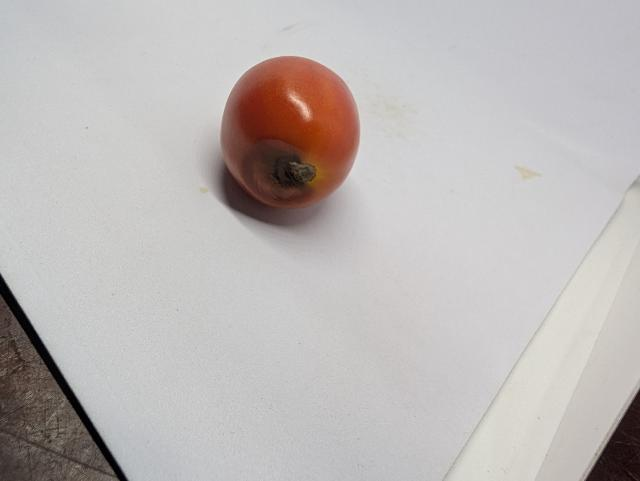defect: (213, 51, 366, 214)
